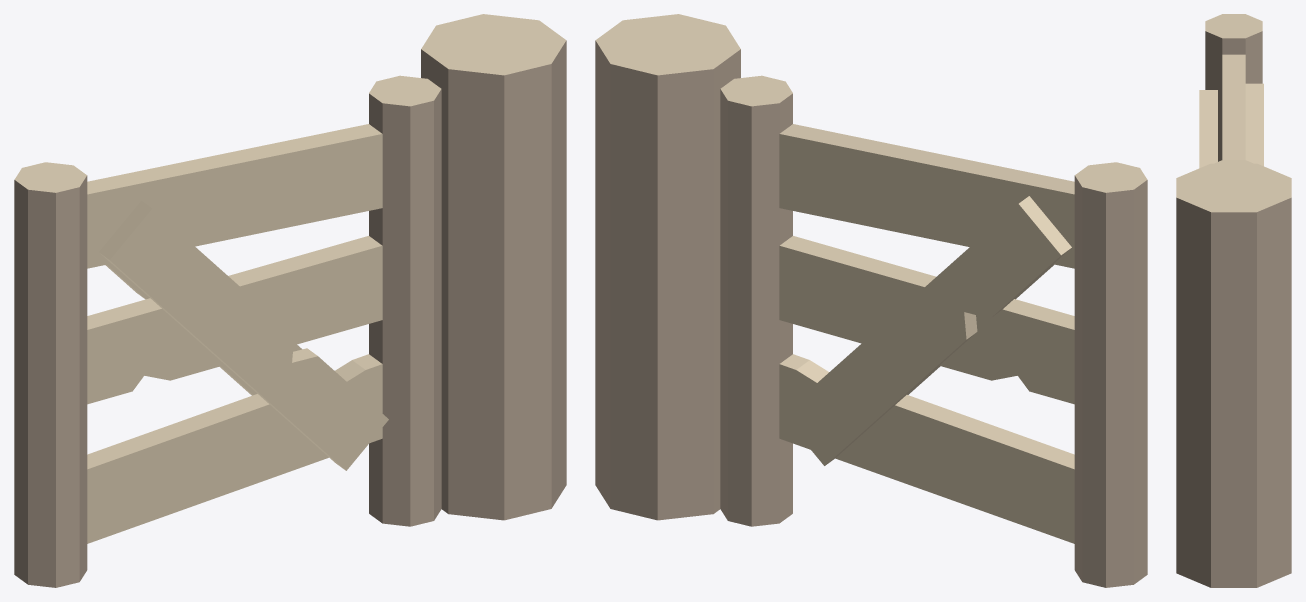
Rendered from Hilly_Prop_Fence_Gate_2.glb.
3 renders of one model, left to right at view 1: azimuth 30°, elevation 25°; view 2: azimuth 150°, elevation 25°; view 3: azimuth 270°, elevation 25°, orthographic. The views are drawn at different scales.
Parts seen in each view (by area): view 1: Hilly_Prop_Fence_Gate_2; view 2: Hilly_Prop_Fence_Gate_2; view 3: Hilly_Prop_Fence_Gate_2.
Boxes of the visible parts, x1,y1,x2,y2 form: Hilly_Prop_Fence_Gate_2: (14, 14, 566, 587); Hilly_Prop_Fence_Gate_2: (595, 14, 1147, 587); Hilly_Prop_Fence_Gate_2: (1176, 14, 1291, 587).
Size of the model in its own units: 0.315 by 0.252 by 0.07.
